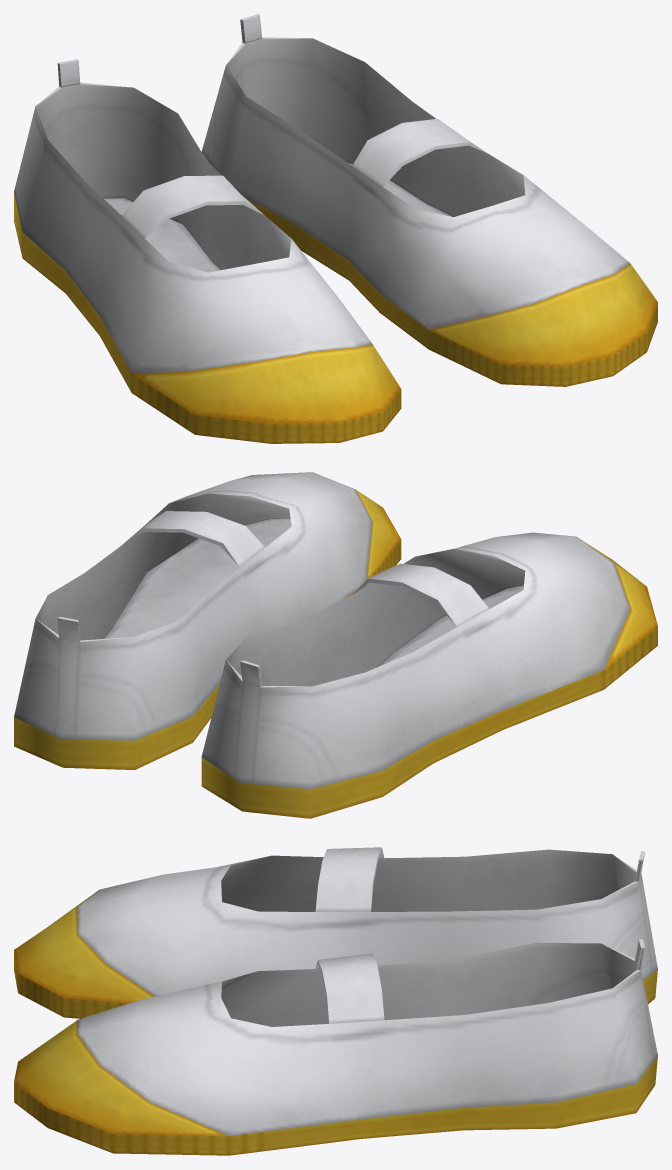
File: set_indoorshoes_05_a.fbx
The picture shows the model from 3 angles, top to bottom: view 1: azimuth 30°, elevation 25°; view 2: azimuth 150°, elevation 25°; view 3: azimuth 270°, elevation 25°; orthographic projection.
Parts seen in each view (by area): view 1: indoorshoes_05_a_R, indoorshoes_05_a_L; view 2: indoorshoes_05_a_L, indoorshoes_05_a_R; view 3: indoorshoes_05_a_R, indoorshoes_05_a_L.
Boxes of the visible parts, <box> form: indoorshoes_05_a_R: <box>201,14,657,386</box>; indoorshoes_05_a_L: <box>14,59,401,443</box>; indoorshoes_05_a_L: <box>201,532,657,818</box>; indoorshoes_05_a_R: <box>14,472,401,769</box>; indoorshoes_05_a_R: <box>14,939,657,1155</box>; indoorshoes_05_a_L: <box>14,847,657,1018</box>.
Size of the model in its own units: 21.31 by 6.18 by 25.41.
